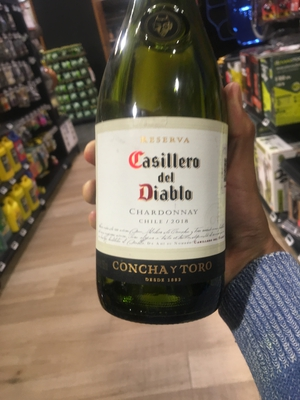casillero del diablo chardonnay: (88, 9, 238, 325)
